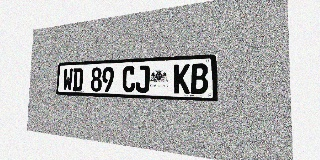8: (90, 67, 102, 92)
9: (102, 67, 114, 92)
B: (191, 63, 208, 94)
C: (122, 66, 136, 92)
D: (72, 68, 83, 91)
J: (135, 65, 150, 93)
K: (174, 64, 190, 94)
W: (63, 68, 73, 91)
